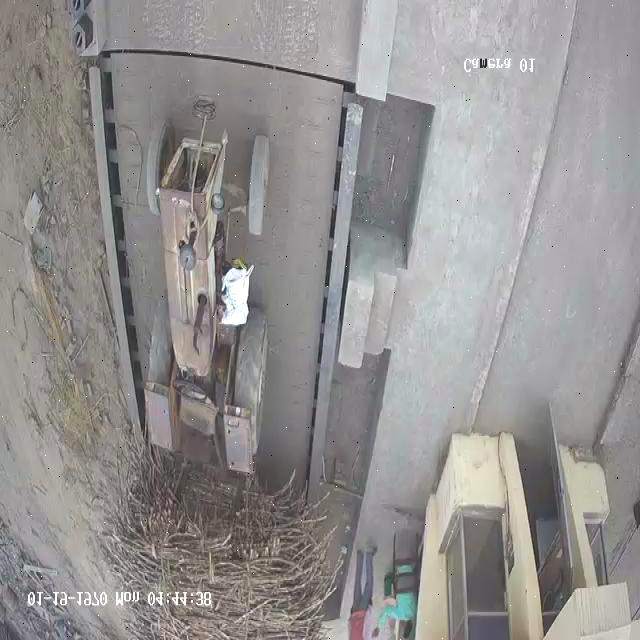Tratores - v5 YOLO V8L 2024-11-13: (142, 108, 277, 454)
